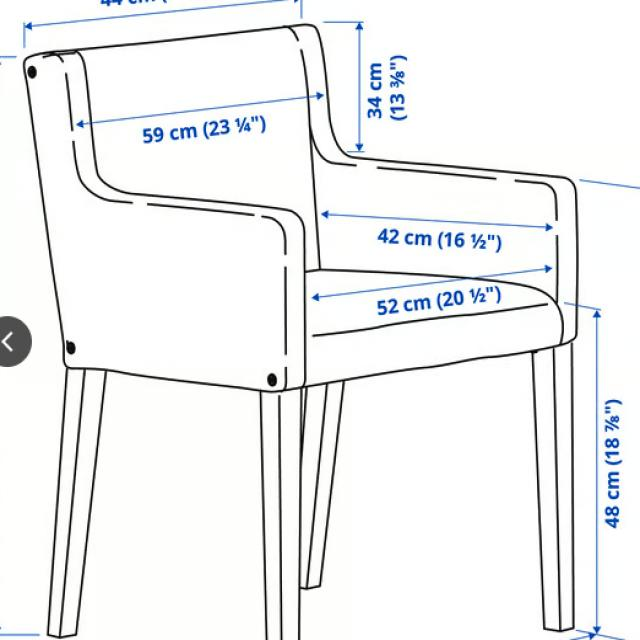Armrest: (308, 137, 580, 346), (41, 187, 310, 394)
Backrest: (23, 26, 323, 272)
Leg_Structure: (41, 334, 579, 639)
Seat: (298, 262, 571, 394)
